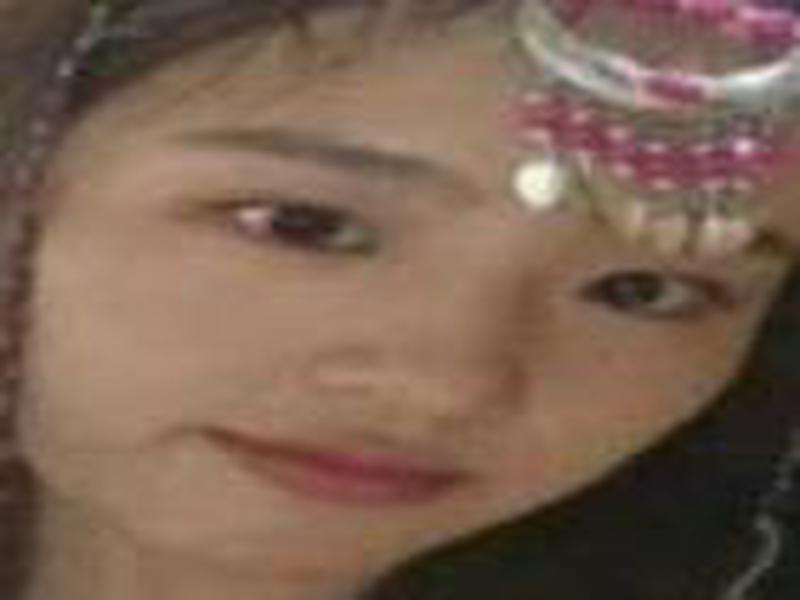without_mask: (25, 65, 778, 582)
